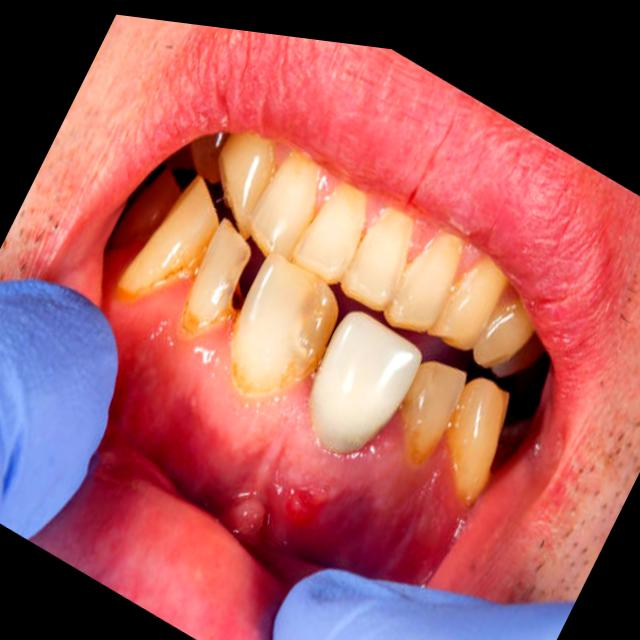calculus: (247, 302, 338, 397), (138, 236, 210, 297), (446, 429, 495, 505), (411, 403, 458, 462), (399, 380, 429, 461), (290, 197, 328, 257), (227, 318, 250, 405), (179, 300, 232, 337), (273, 151, 317, 192), (328, 184, 364, 227), (378, 207, 413, 239), (342, 289, 373, 307), (115, 277, 136, 302)
